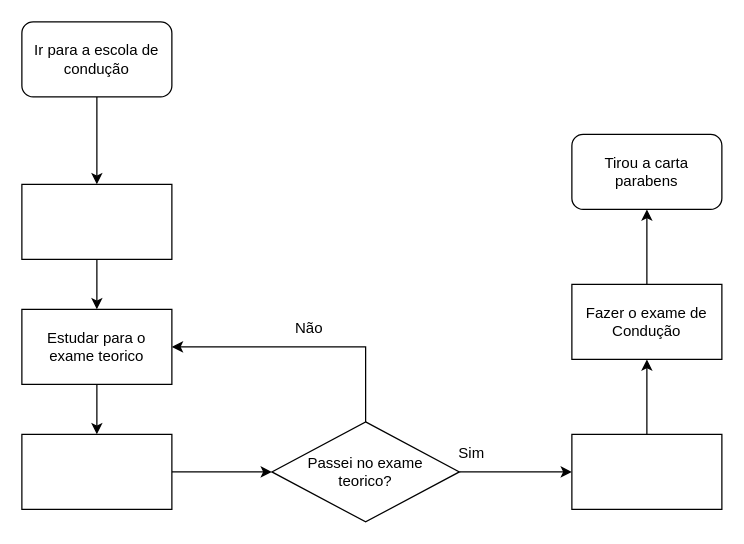
The diagram is 744 pixels wide and 544 high, and some of its shapes have lost their labels. Each missing label, with the centre of its shape:
"Fazer a inscrição" belongs at (x=96, y=221).
"Fazer o exame teorico" belongs at (x=96, y=471).
"Ir para as aulas de condução" belongs at (x=646, y=471).
